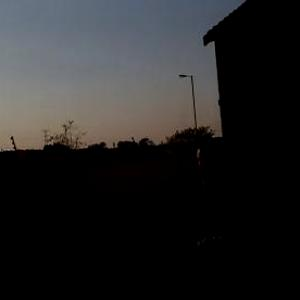follow: (178, 133, 268, 299)
